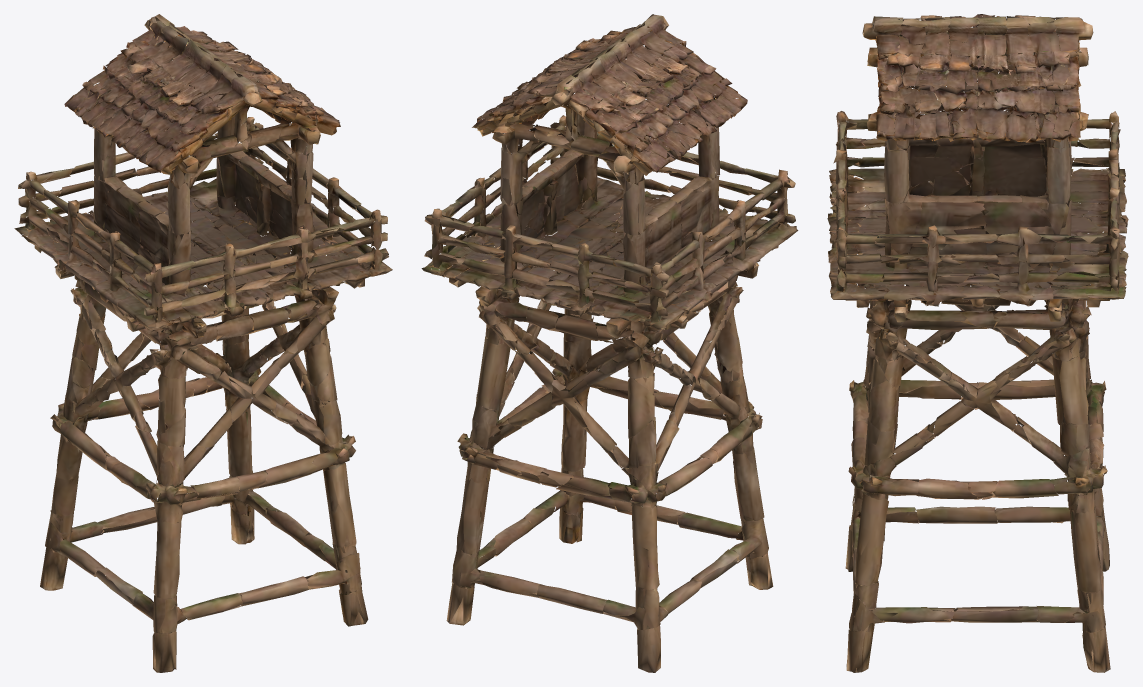
Rendered from a113_sazdan_catili_ahsap_gozetleme_kulesi.glb.
3 renders of one model, left to right at view 1: azimuth 30°, elevation 25°; view 2: azimuth 150°, elevation 25°; view 3: azimuth 270°, elevation 25°, orthographic. The views are drawn at different scales.
Parts seen in each view (by area): view 1: Mesh_0; view 2: Mesh_0; view 3: Mesh_0.
Boxes of the visible parts, left/top/right/bottom form: Mesh_0: left=14, top=14, right=392, bottom=672; Mesh_0: left=421, top=14, right=798, bottom=672; Mesh_0: left=827, top=14, right=1128, bottom=672.
Size of the model in its own units: 0.8793 by 1.91 by 0.8665.
1 material, 1 textured.
